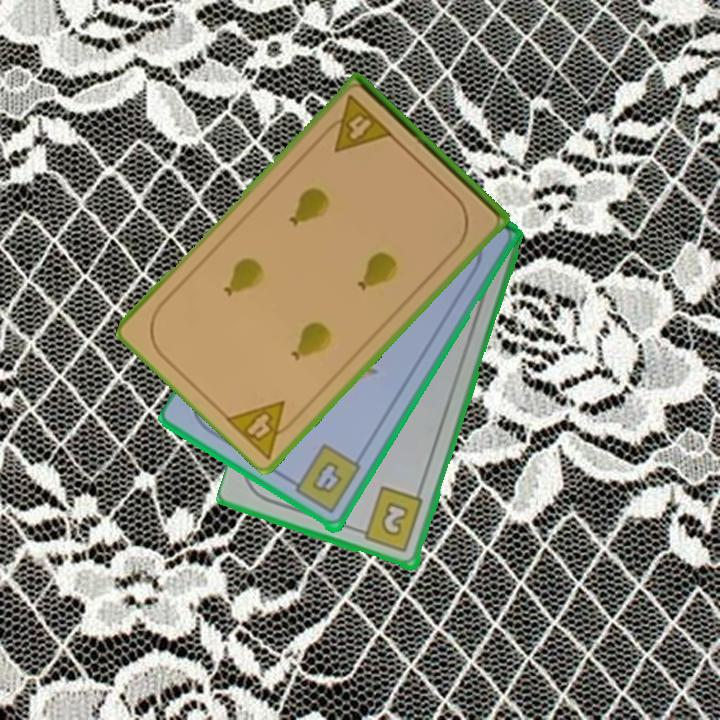2b: (353, 484, 426, 556)
4b: (284, 441, 364, 518)
4p: (222, 397, 305, 462), (318, 92, 396, 156)
